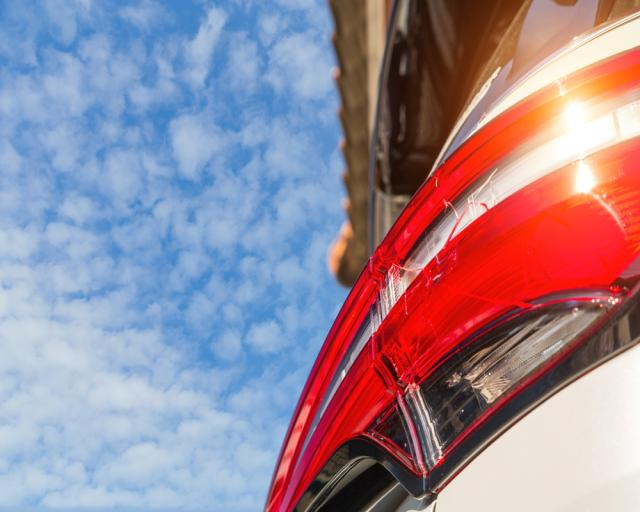lamp broken: (366, 45, 640, 477)
